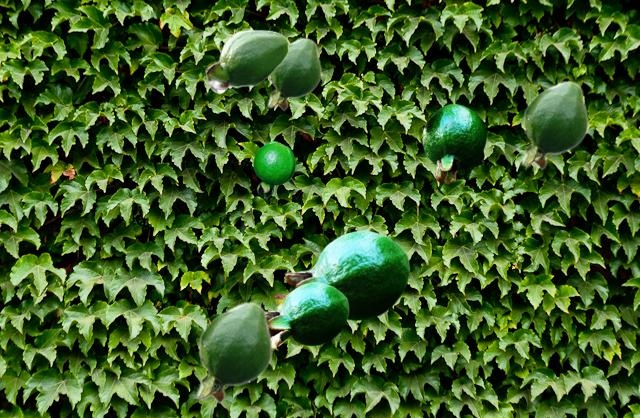guava: (273, 229, 409, 321), (196, 301, 271, 403), (521, 80, 587, 169), (267, 281, 348, 350), (205, 29, 289, 93), (422, 103, 486, 184), (267, 37, 320, 110), (253, 141, 294, 197)
